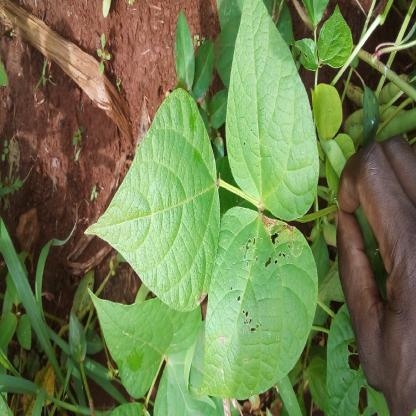Beans_Angular_LeafSpot: (90, 93, 206, 308), (201, 215, 315, 405)
